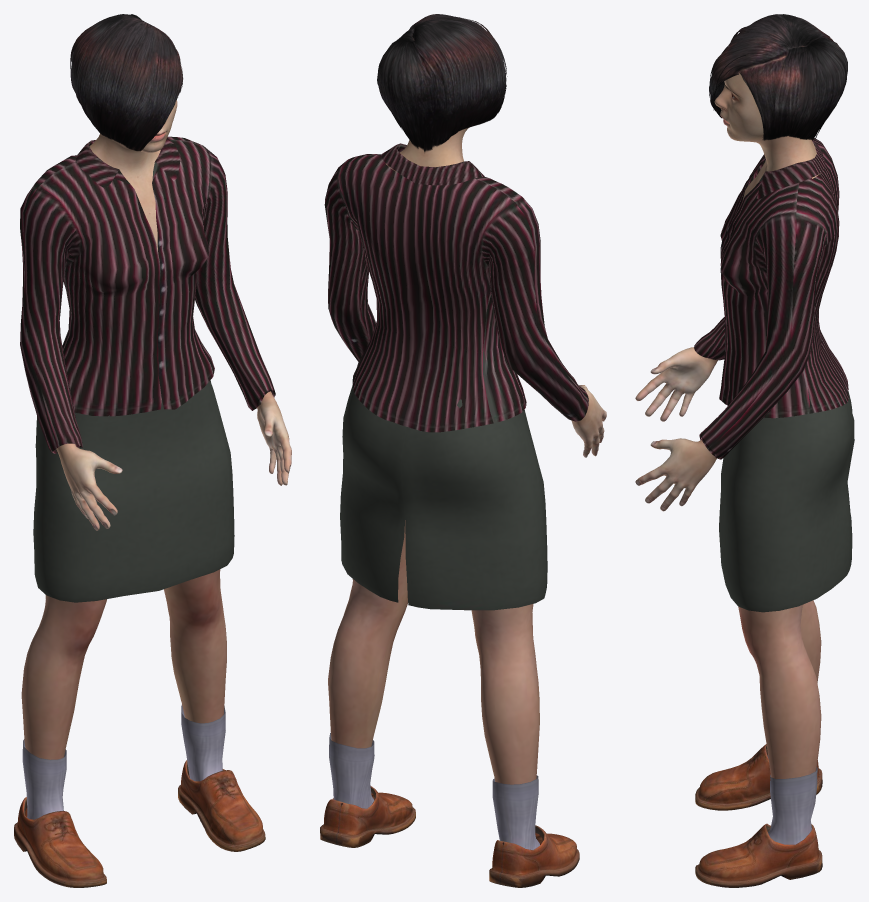
The model's file is quill.glb.
3 renders of one model, left to right at view 1: azimuth 30°, elevation 25°; view 2: azimuth 150°, elevation 25°; view 3: azimuth 270°, elevation 25°, orthographic. The views are drawn at different scales.
Parts seen in each view (by area): view 1: Human.female_elegantsuit01, Human, Human.shoes01, Human.bob01; view 2: Human.female_elegantsuit01, Human, Human.bob01, Human.shoes01; view 3: Human.female_elegantsuit01, Human, Human.bob01, Human.shoes01.
Boxes of the visible parts, left/top/right/bottom form: Human.female_elegantsuit01: left=20, top=136, right=275, bottom=602; Human: left=21, top=100, right=291, bottom=759; Human.shoes01: left=14, top=705, right=265, bottom=887; Human.bob01: left=70, top=14, right=183, bottom=151; Human.female_elegantsuit01: left=324, top=143, right=588, bottom=610; Human: left=328, top=127, right=606, bottom=784; Human.bob01: left=377, top=14, right=507, bottom=152; Human.shoes01: left=320, top=733, right=579, bottom=887; Human.female_elegantsuit01: left=694, top=138, right=854, bottom=612; Human: left=635, top=56, right=821, bottom=779; Human.bob01: left=709, top=14, right=847, bottom=140; Human.shoes01: left=695, top=744, right=822, bottom=887.
Size of the model in its own units: 0.4502 by 1.6 by 0.3888.
Materials: 6 (6 with a texture image).
